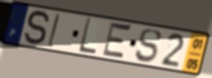2: (159, 33, 186, 69)
E: (100, 20, 134, 63)
I: (46, 12, 61, 49)
L: (77, 17, 97, 56)
S: (23, 9, 52, 47), (134, 29, 163, 65)
